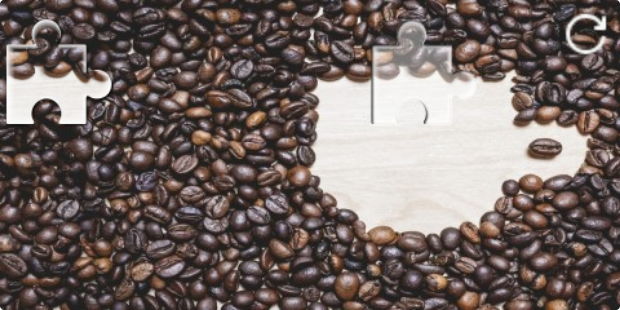target: (371, 21, 476, 124)
